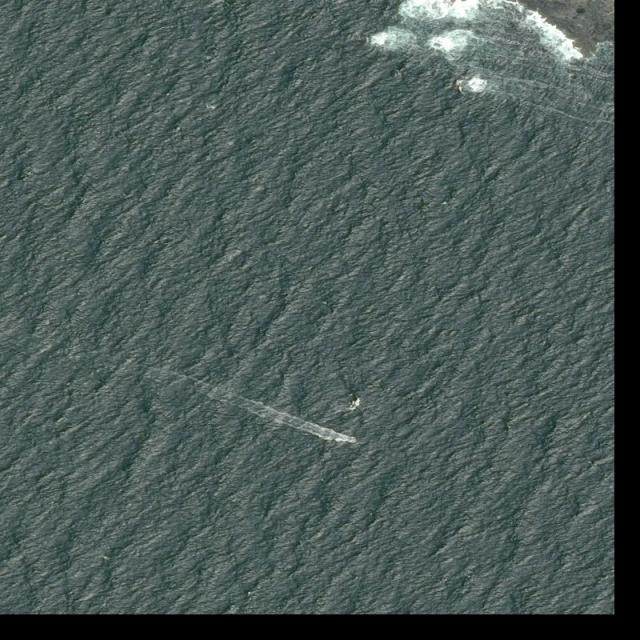ship: (347, 438, 358, 443)
